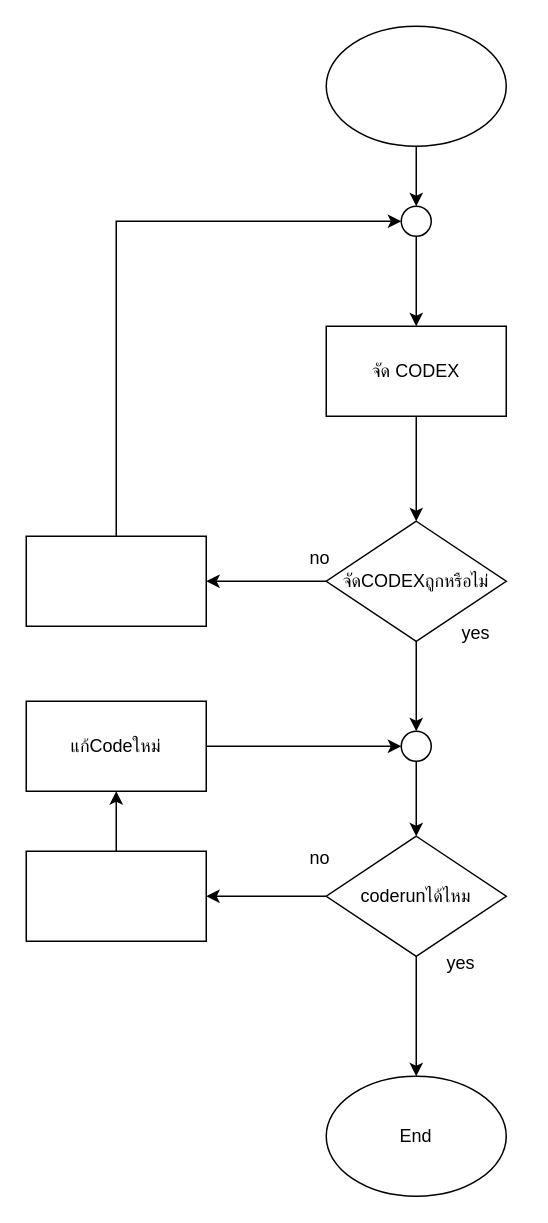
Some shapes in this 548 by 1223 pixel diagram are drawn without their labels. Here are the shapes that lost their labels. From the top down, the centre of each, then its label:
At point (415, 85): "Start".
At point (115, 580): "ตรวจCodexใหม่".
At point (115, 895): "ตรวจCodeใหม่".
